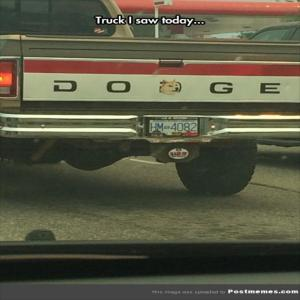Vehicle-registration-plate: (152, 116, 208, 134)
